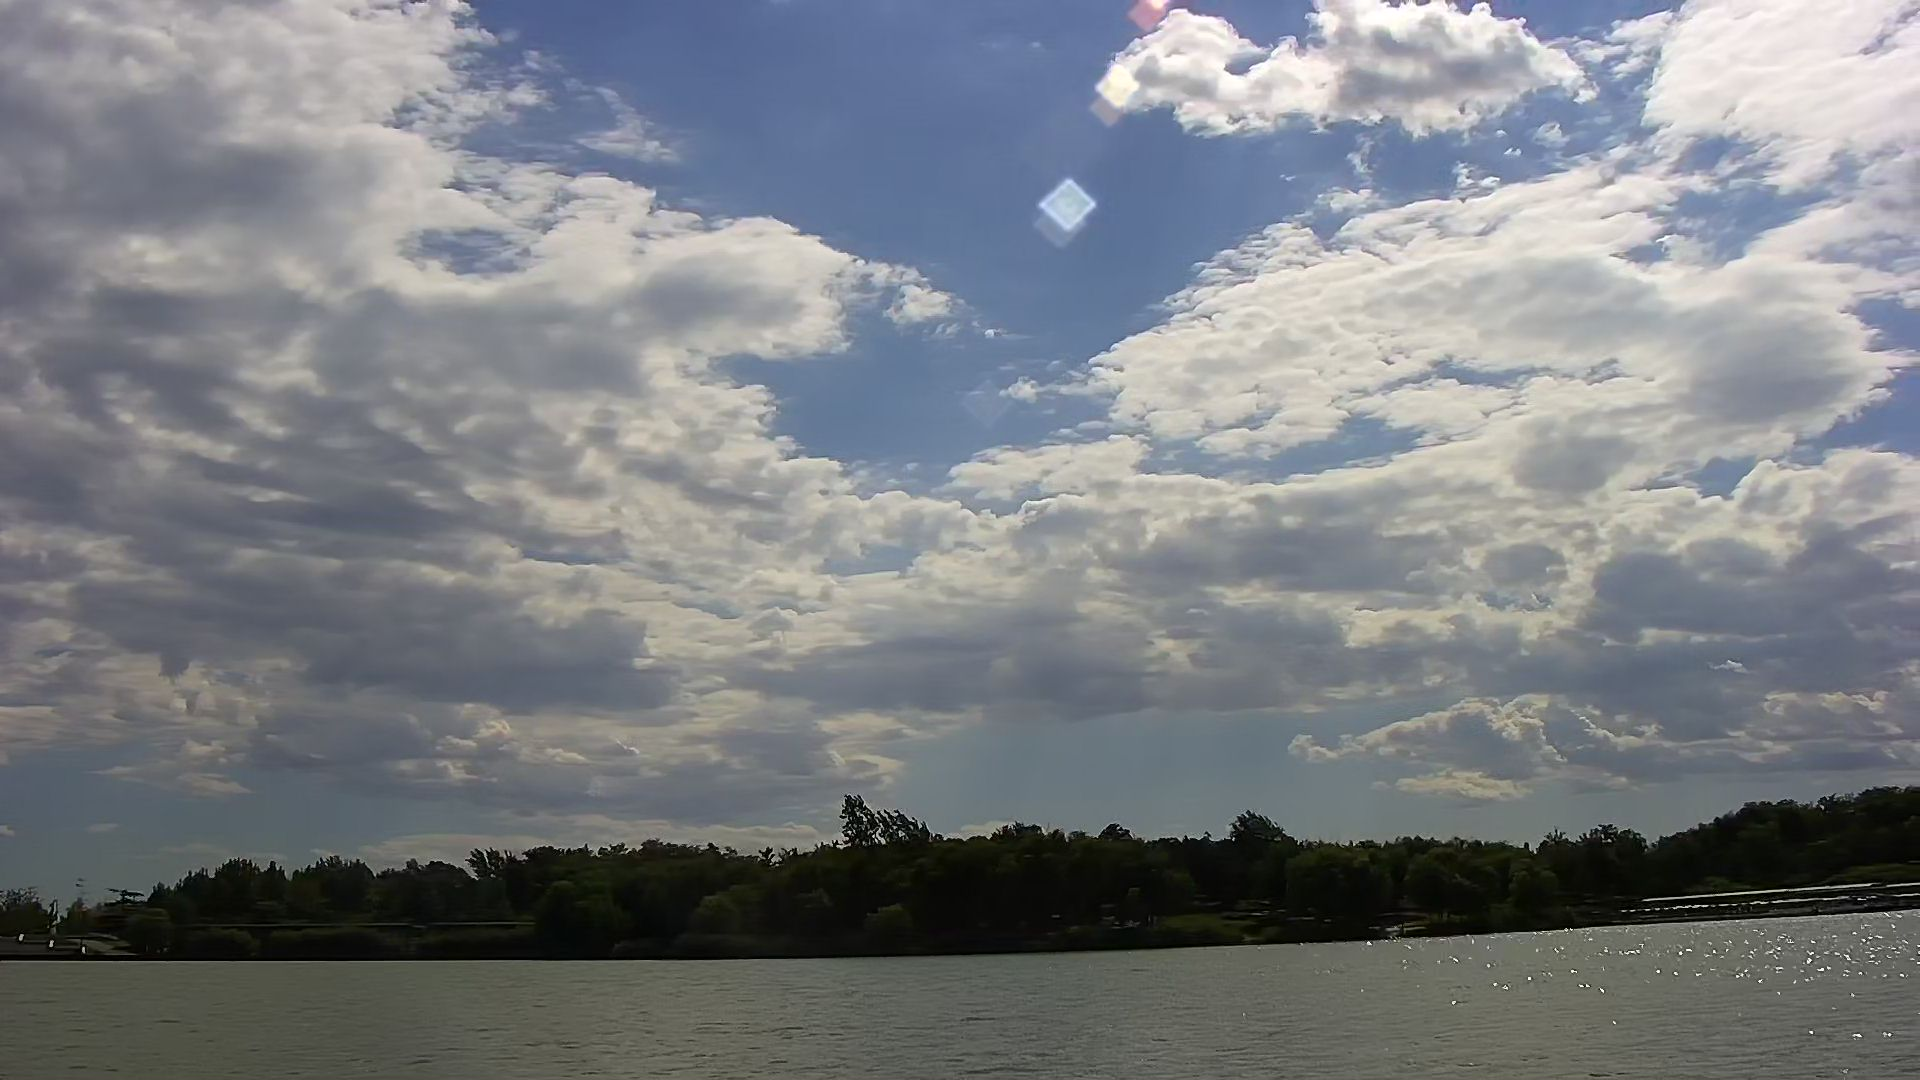harbor: (1619, 872, 1920, 930)
